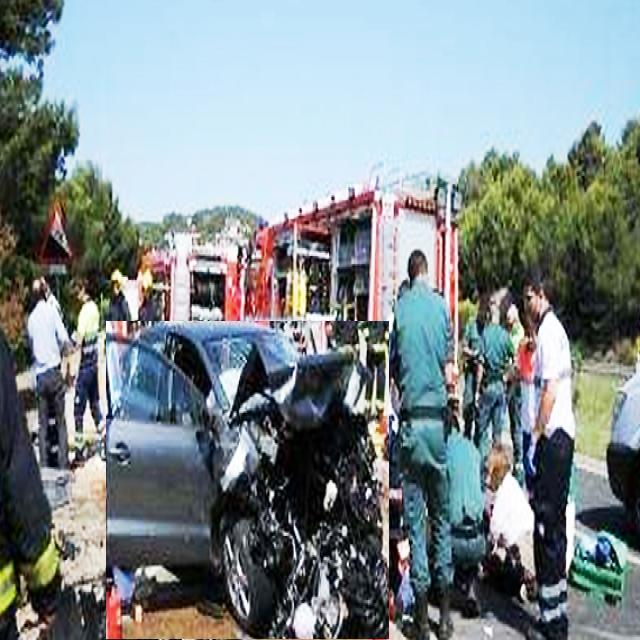accident: (106, 321, 389, 639)
emergency: (269, 189, 458, 336)
